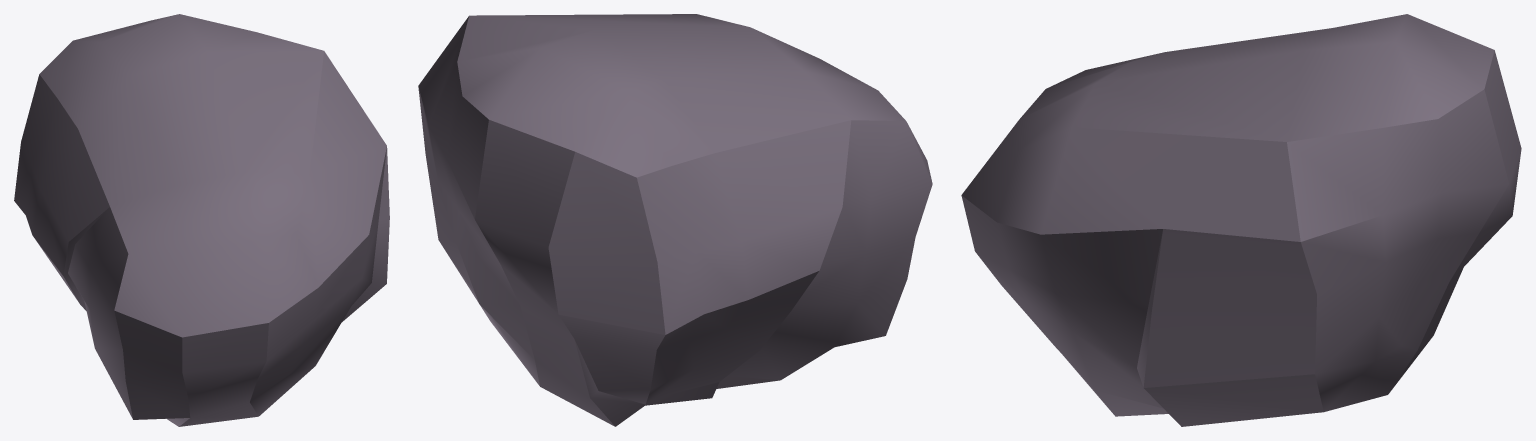
Rendered from P_stone_06_LD.fbx.
3 views of the same model, side by side, from view 1: azimuth 30°, elevation 25°; view 2: azimuth 150°, elevation 25°; view 3: azimuth 270°, elevation 25° (orthographic). The views are drawn at different scales.
Visible parts, largest first — view 1: P_stone_06; view 2: P_stone_06; view 3: P_stone_06.
Part boxes in pixels (box(x1,y1,x2,y2)): P_stone_06: box(14, 14, 389, 426); P_stone_06: box(418, 14, 932, 426); P_stone_06: box(961, 14, 1521, 426).
Size of the model in its own units: 313 by 288 by 366.
1 material, 1 textured.
